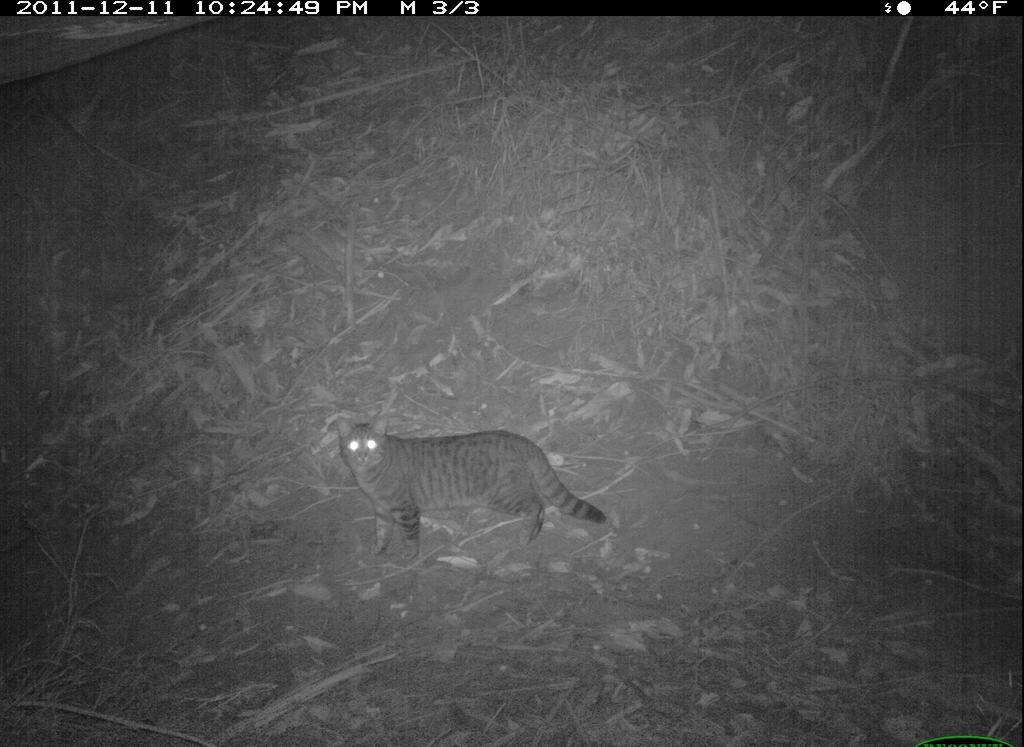cat: (323, 408, 614, 560)
